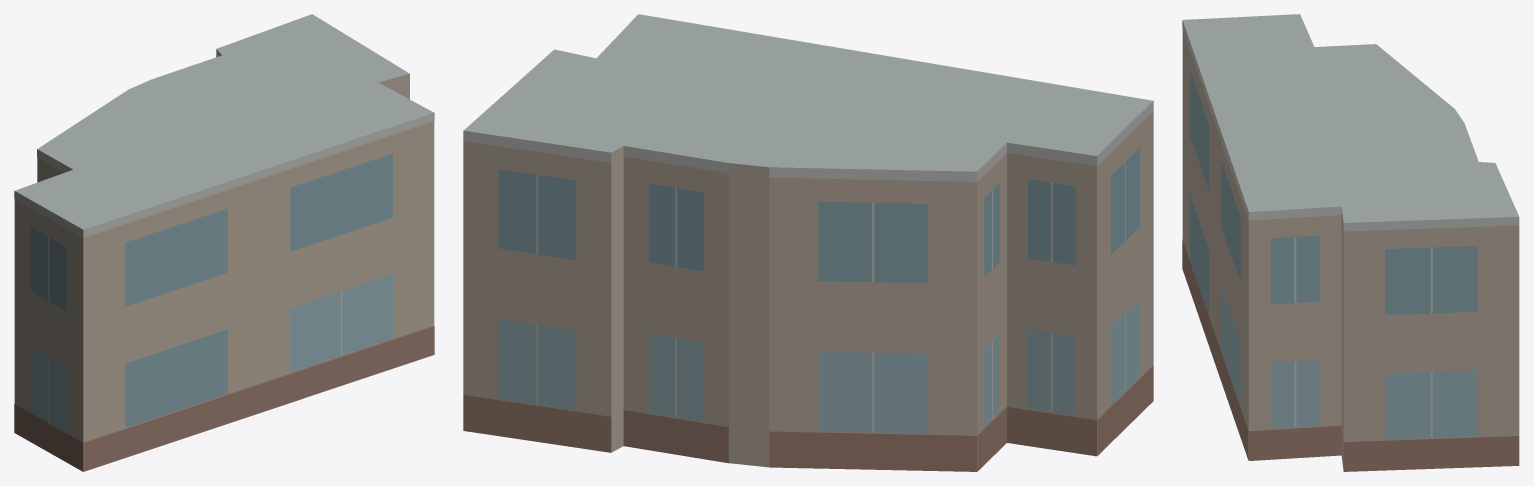
Rendered from survey-upis-32980431.glb.
The picture shows the model from 3 angles, left to right: view 1: azimuth 30°, elevation 25°; view 2: azimuth 150°, elevation 25°; view 3: azimuth 270°, elevation 25°; orthographic projection. The views are drawn at different scales.
Parts seen in each view (by area): view 1: survey-upis-32980431.tmp; view 2: survey-upis-32980431.tmp; view 3: survey-upis-32980431.tmp.
Part boxes in pixels (bbox=[...]): survey-upis-32980431.tmp: bbox=[14, 14, 434, 471]; survey-upis-32980431.tmp: bbox=[463, 14, 1153, 471]; survey-upis-32980431.tmp: bbox=[1182, 14, 1519, 471].
Bounding box in the file's own units: 12.8 × 7.1 × 8.72.
